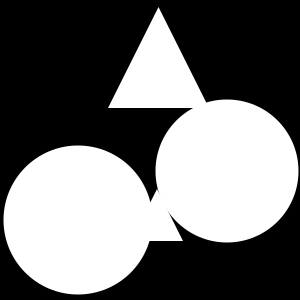rectangle: (4, 146, 152, 294), (156, 99, 299, 242)
triangle: (108, 7, 209, 108), (131, 189, 183, 241)
